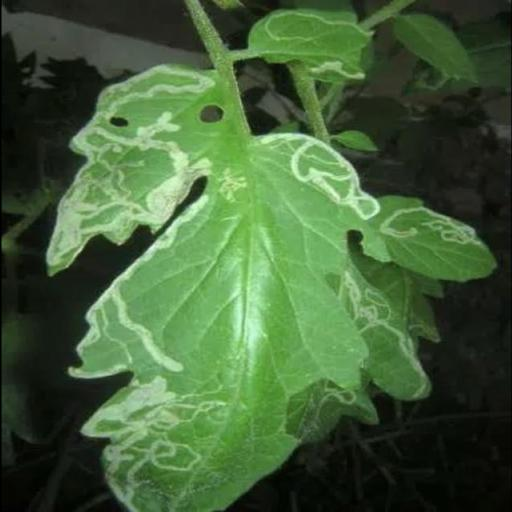Leaf Miner: (42, 64, 380, 512), (375, 192, 499, 281)
